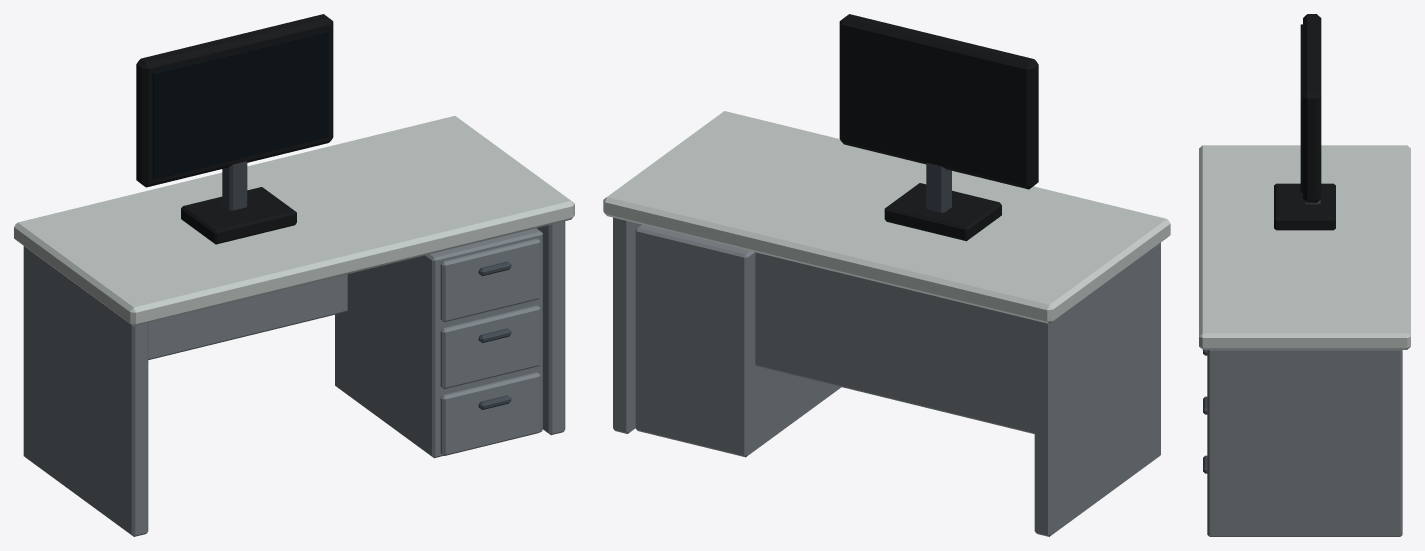
File: DeskWorkstation.fbx
3 views of the same model, side by side, from view 1: azimuth 30°, elevation 25°; view 2: azimuth 150°, elevation 25°; view 3: azimuth 270°, elevation 25° (orthographic). The views are drawn at different scales.
Parts seen in each view (by area): view 1: DeskWorkstation; view 2: DeskWorkstation; view 3: DeskWorkstation.
Boxes of the visible parts, x1,y1,x2,y2 form: DeskWorkstation: [14, 14, 574, 536]; DeskWorkstation: [603, 14, 1170, 536]; DeskWorkstation: [1199, 14, 1410, 536].
Size of the model in its own units: 160 by 144 by 75.
1 material, 1 textured.
